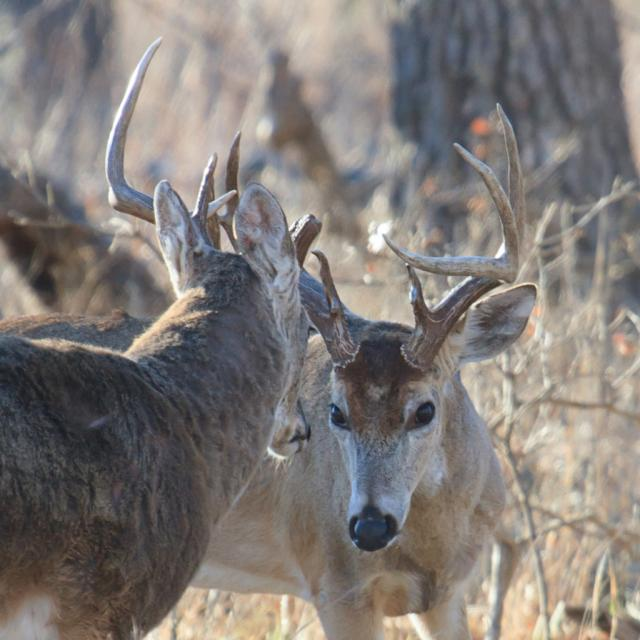Deer: (1, 36, 539, 640), (0, 151, 311, 640)
